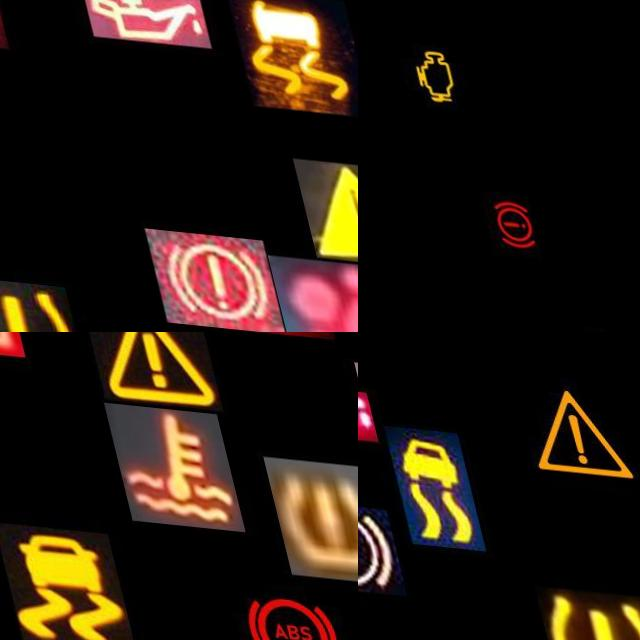Central Warning lamp: (501, 358, 640, 485), (68, 332, 207, 404), (282, 148, 358, 257)
Engine cooling system: (88, 398, 223, 525)
